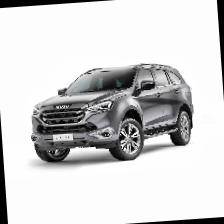NON-EV: (27, 57, 198, 168)
